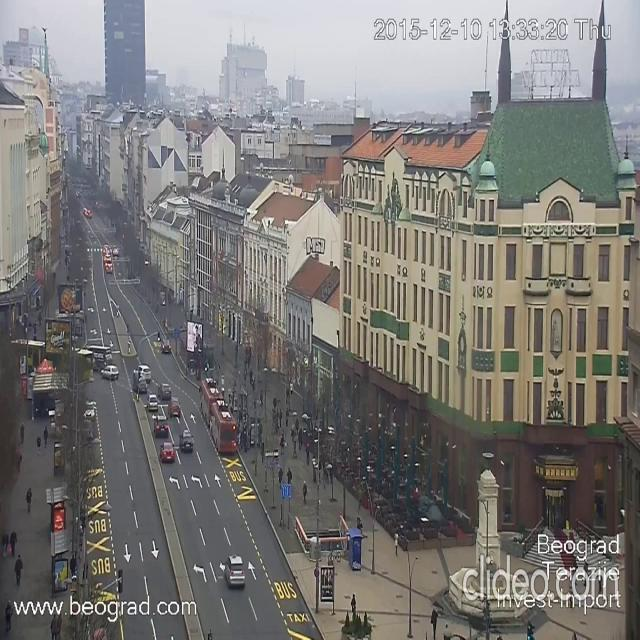bus: (210, 402, 238, 454), (196, 375, 222, 418), (69, 348, 93, 382), (80, 343, 108, 366)
car: (224, 554, 245, 588), (155, 411, 169, 439), (178, 426, 193, 452), (99, 363, 123, 377), (134, 367, 150, 381), (162, 442, 174, 460), (160, 381, 172, 399), (170, 396, 180, 416), (148, 394, 158, 411), (163, 340, 170, 354), (135, 380, 147, 388), (105, 263, 111, 272), (112, 248, 116, 257)
